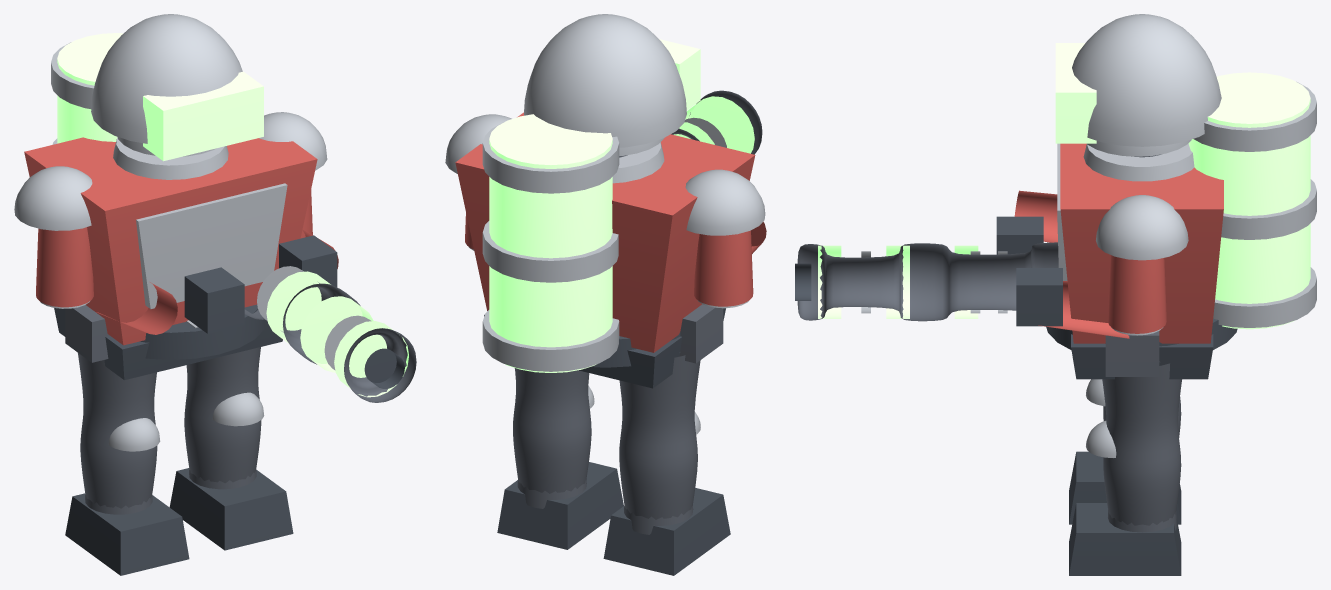
File: deso.glb
3 views of the same model, side by side, from view 1: azimuth 30°, elevation 25°; view 2: azimuth 150°, elevation 25°; view 3: azimuth 270°, elevation 25° (orthographic). The views are drawn at different scales.
Parts seen in each view (by area): view 1: Hull; view 2: Hull; view 3: Hull.
Part boxes in pixels (x1,y1,x2,y2): Hull: [14, 14, 416, 575]; Hull: [445, 14, 766, 575]; Hull: [795, 14, 1316, 575].
Bounding box in the file's own units: 0.6833 × 1.1 × 1.02.
